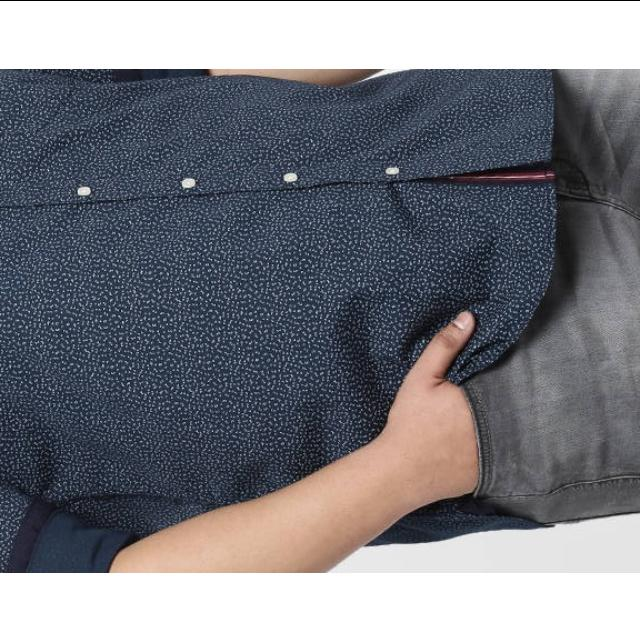cotton: (0, 68, 536, 572)
